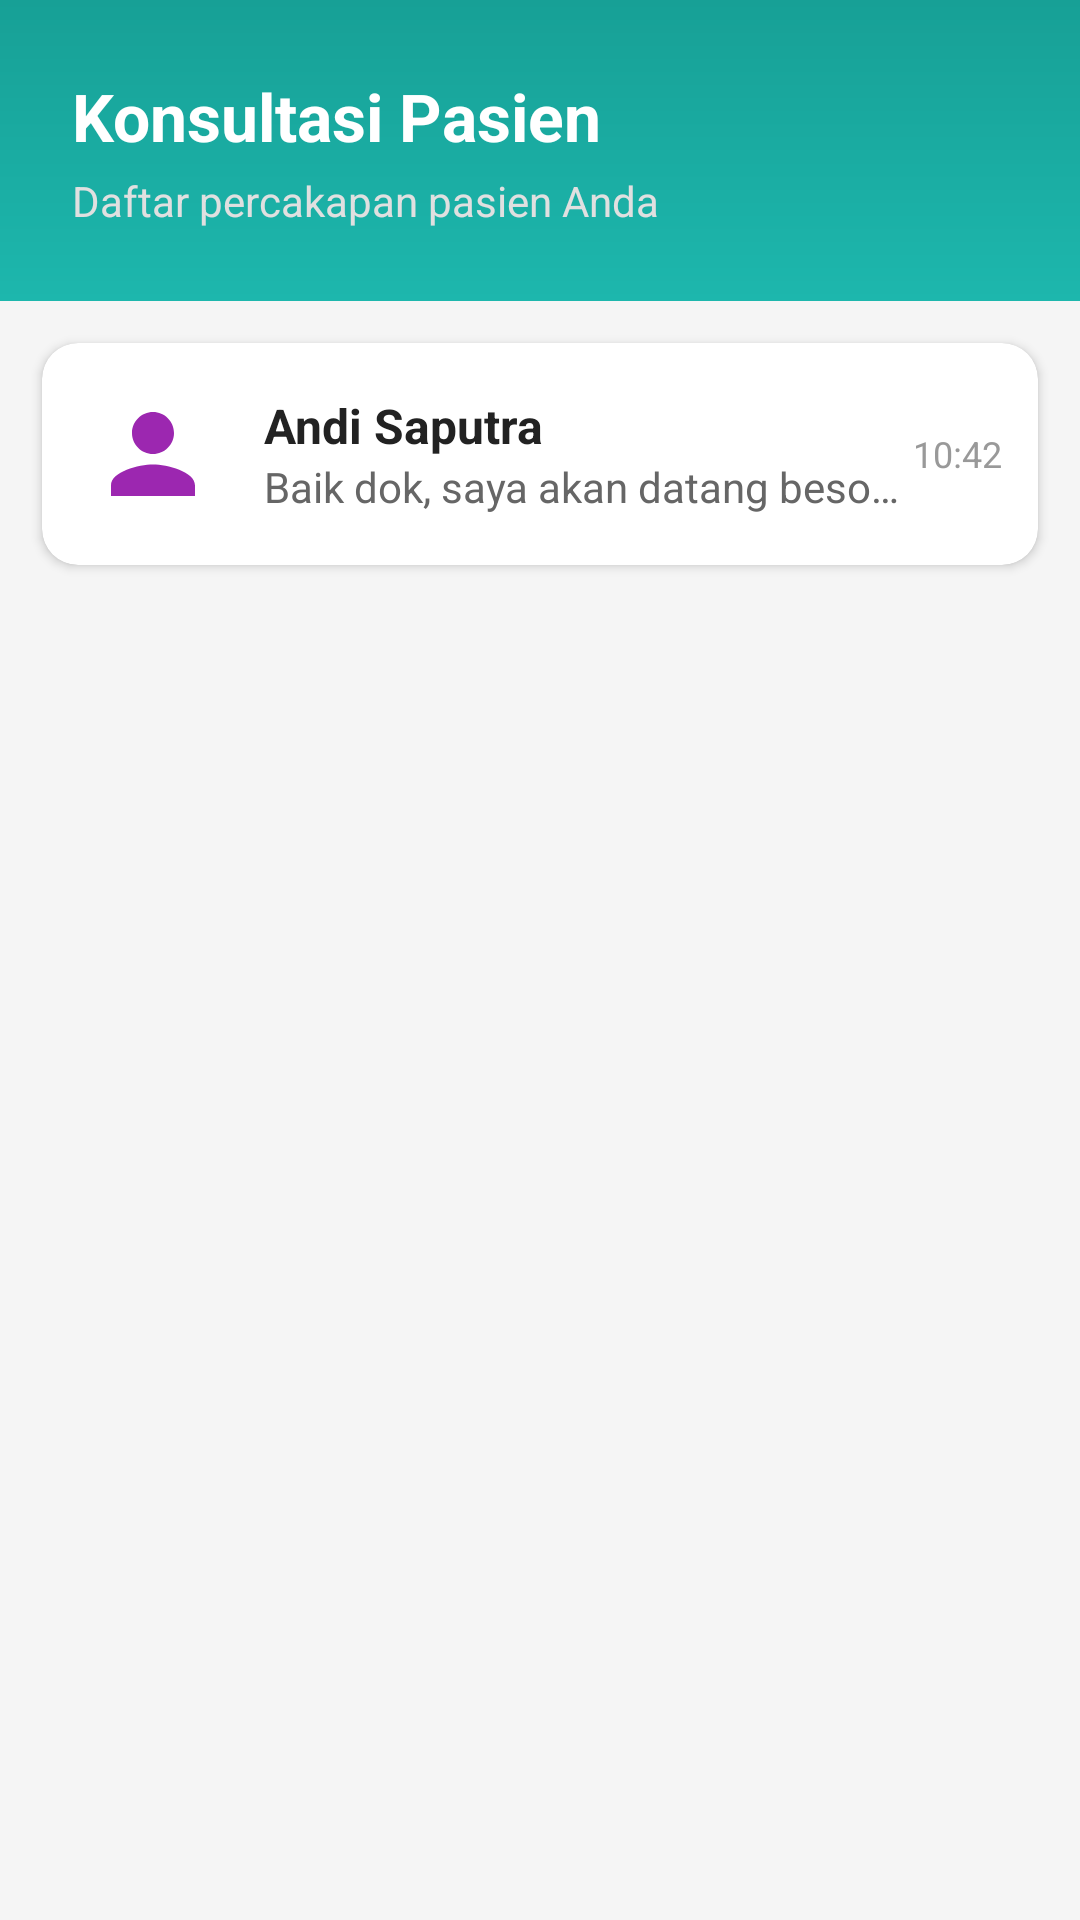

Icons on this 1080px×1920px Android screen, each with the point to tap as [x,y]:
profile: [153,454]
